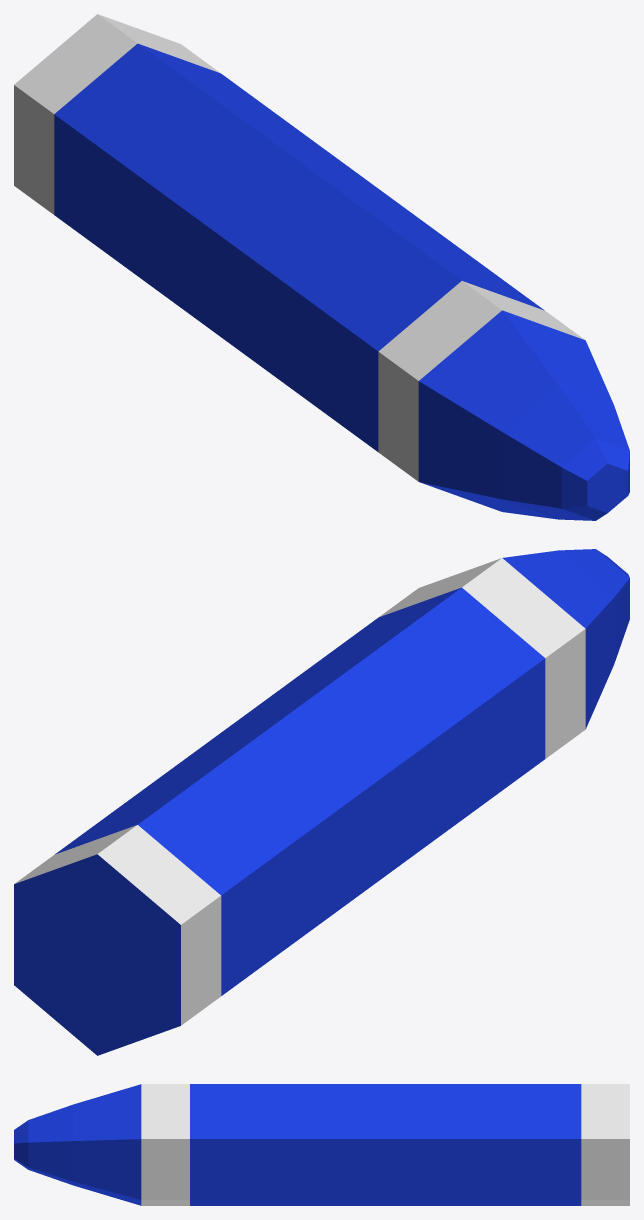
File: crayong.fbx
3 views of the same model, one above another, from view 1: azimuth 30°, elevation 25°; view 2: azimuth 150°, elevation 25°; view 3: azimuth 270°, elevation 25° (orthographic). The views are drawn at different scales.
Parts seen in each view (by area): view 1: 실린더; view 2: 실린더; view 3: 실린더.
Boxes of the visible parts, left/top/right/bottom form: 실린더: left=14, top=14, right=629, bottom=520; 실린더: left=14, top=549, right=629, bottom=1055; 실린더: left=14, top=1084, right=629, bottom=1205.
Bounding box in the file's own units: 1905 × 2200 × 10086.
